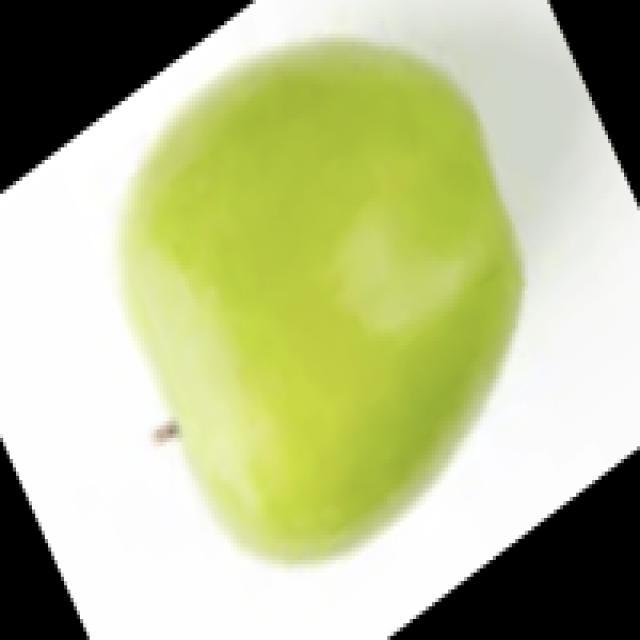Apple: (116, 36, 524, 565)
